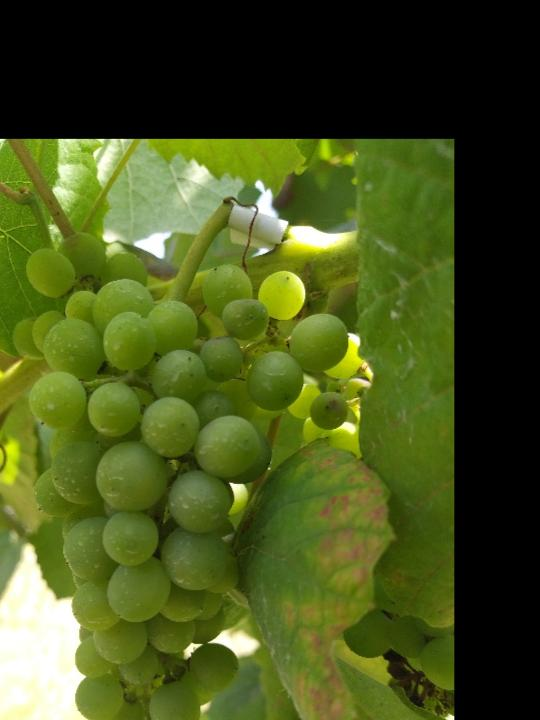grape: (9, 230, 363, 720)
